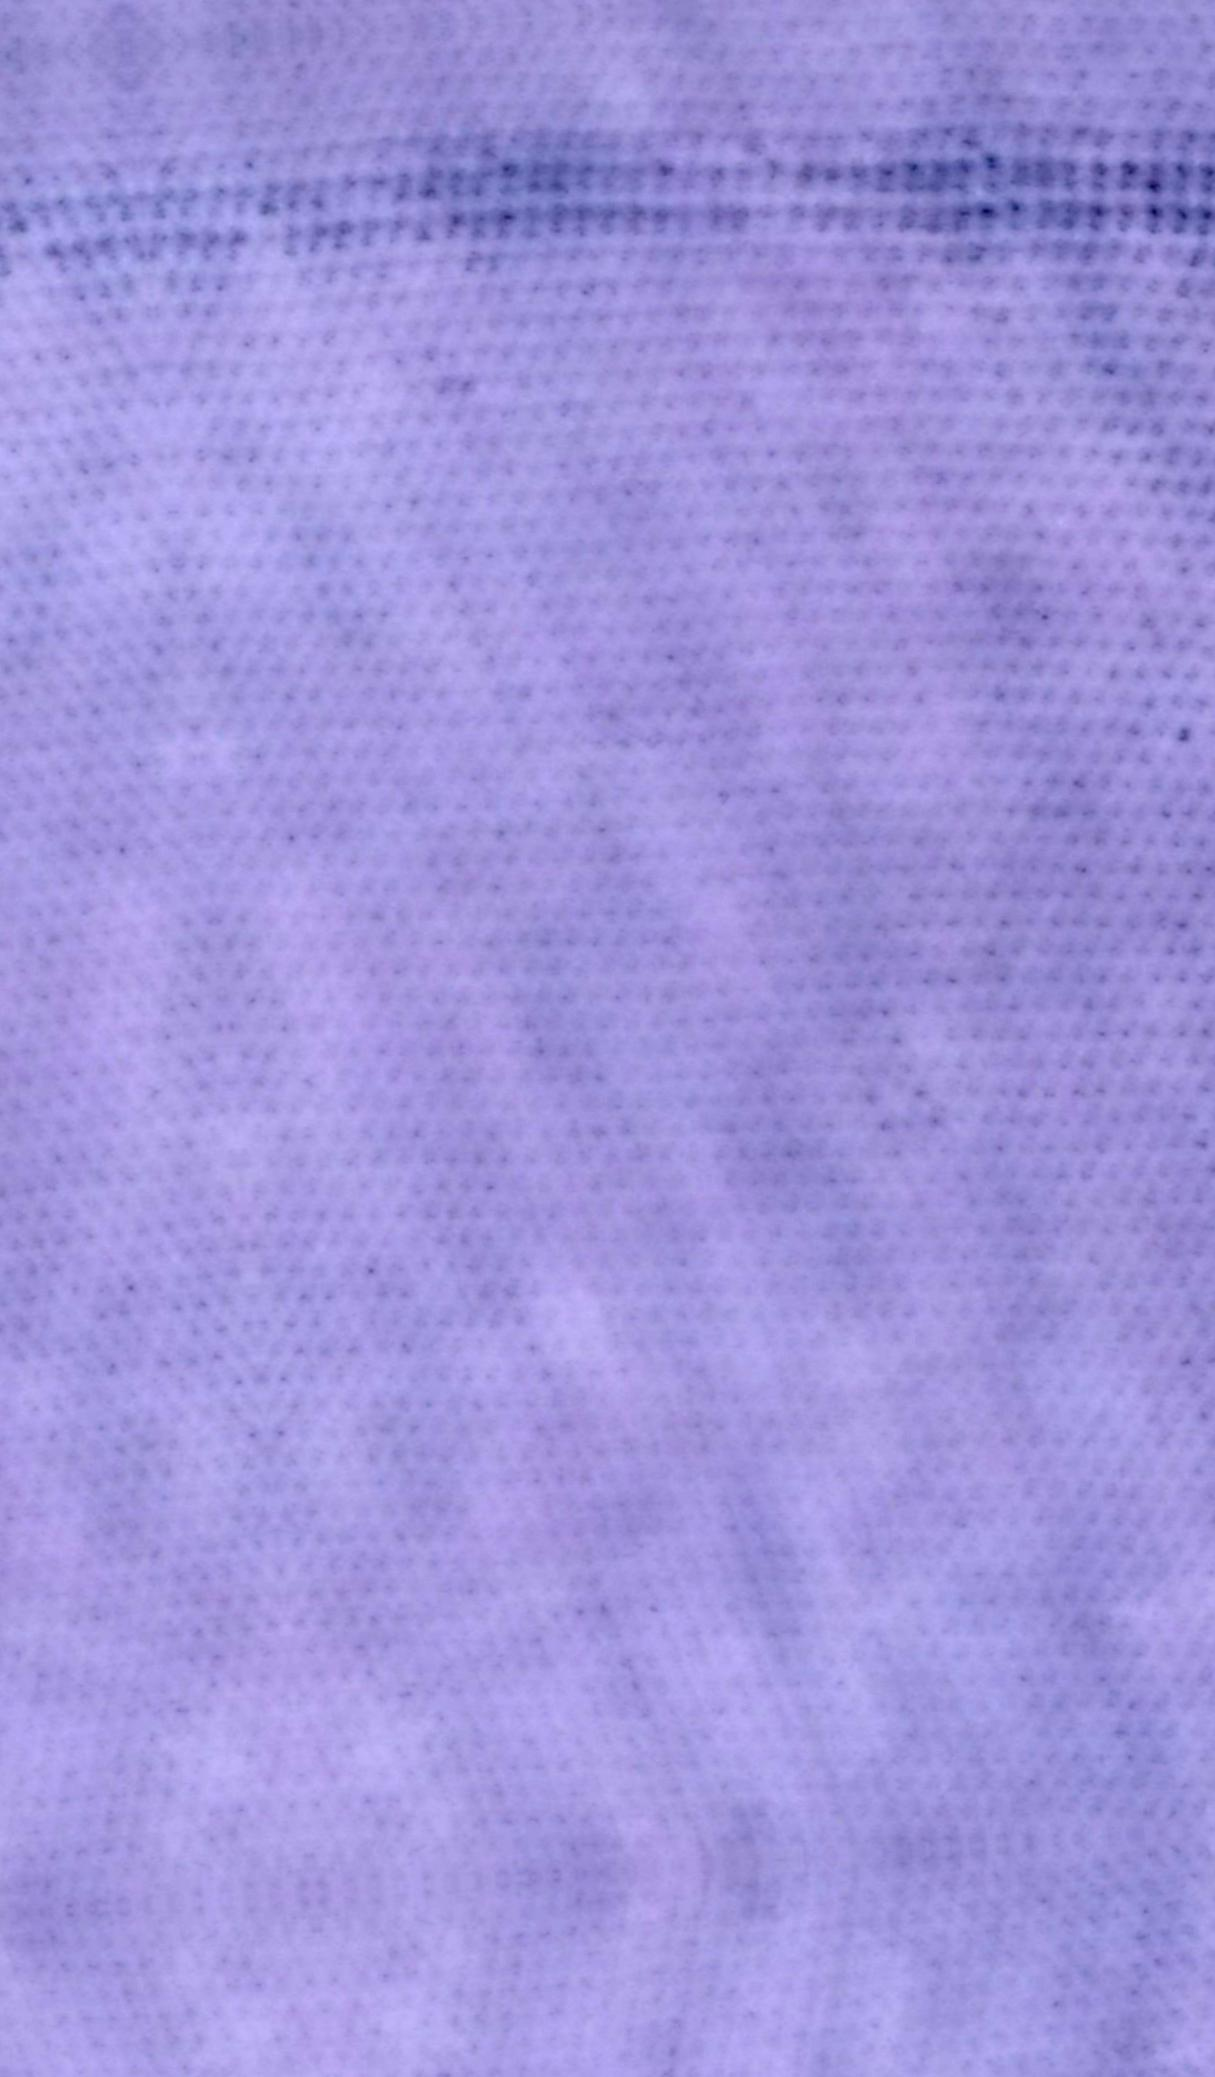slub: (4, 119, 1215, 297)
